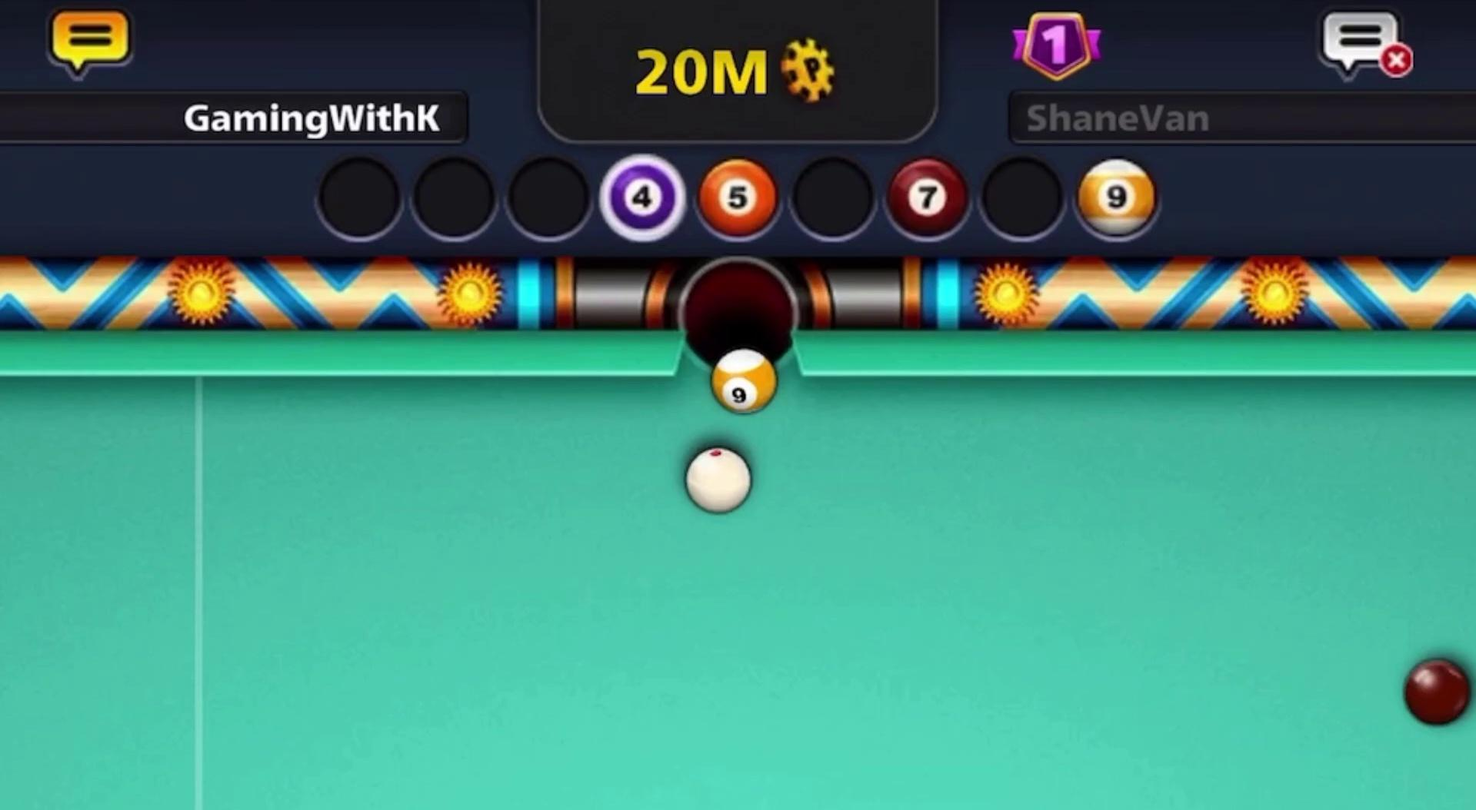Ball: (1394, 649, 1475, 737), (704, 334, 787, 419)
Hole: (670, 244, 804, 429)
White: (675, 440, 759, 521)
